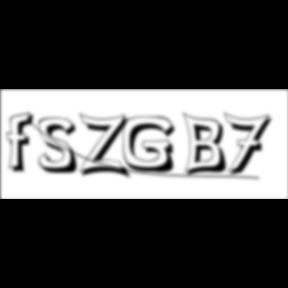7: (224, 111, 278, 179)
B: (183, 111, 233, 179)
G: (122, 116, 182, 176)
S: (38, 117, 84, 176)
Z: (80, 112, 134, 181)
f: (6, 111, 39, 175)
